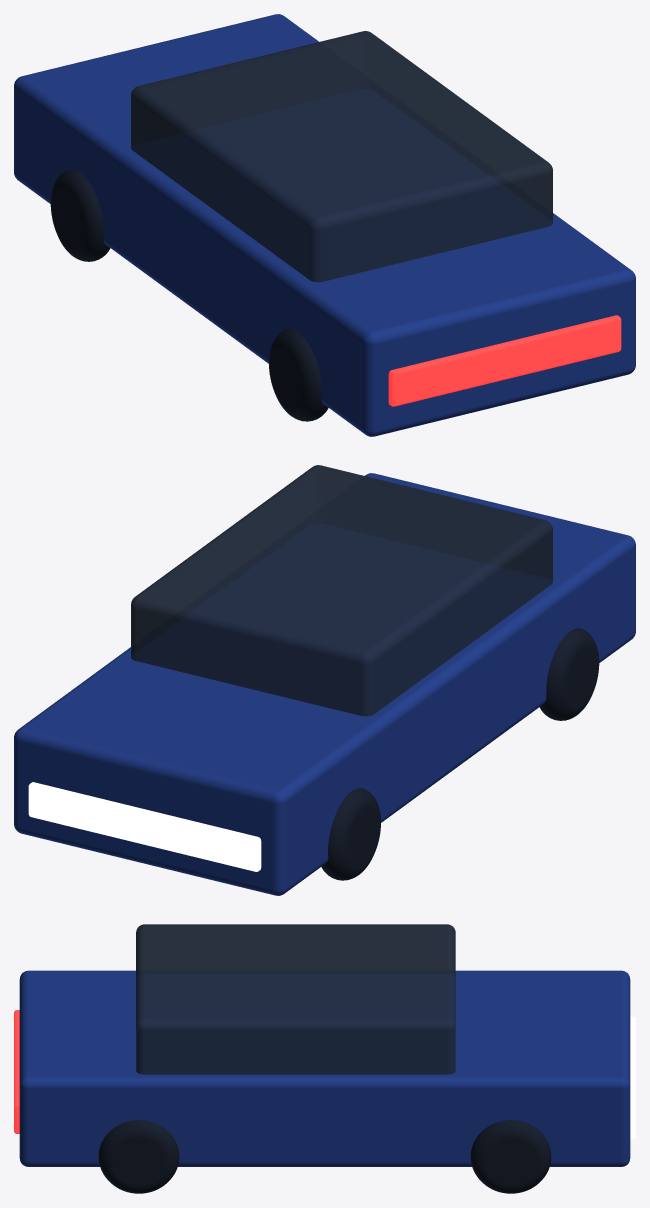
File: car_model_blender.glb
3 renders of one model, top to bottom at view 1: azimuth 30°, elevation 25°; view 2: azimuth 150°, elevation 25°; view 3: azimuth 270°, elevation 25°, orthographic. The views are drawn at different scales.
Parts seen in each view (by area): view 1: Vehicle_Sedan_04_Chassis, Vehicle_Sedan_04_Cabin, Vehicle_Sedan_04_Taillights, Vehicle_Sedan_04_Wheel_-45_-64, Vehicle_Sedan_04_Wheel_-45_64; view 2: Vehicle_Sedan_04_Chassis, Vehicle_Sedan_04_Cabin, Vehicle_Sedan_04_Headlights, Vehicle_Sedan_04_Wheel_-45_64, Vehicle_Sedan_04_Wheel_-45_-64; view 3: Vehicle_Sedan_04_Chassis, Vehicle_Sedan_04_Cabin, Vehicle_Sedan_04_Wheel_45_64, Vehicle_Sedan_04_Wheel_45_-64, Vehicle_Sedan_04_Taillights, Vehicle_Sedan_04_Headlights.
Boxes of the visible parts, x1,y1,x2,y2 form: Vehicle_Sedan_04_Chassis: (14, 14, 635, 436); Vehicle_Sedan_04_Cabin: (131, 31, 552, 282); Vehicle_Sedan_04_Taillights: (388, 315, 621, 406); Vehicle_Sedan_04_Wheel_-45_-64: (50, 169, 110, 261); Vehicle_Sedan_04_Wheel_-45_64: (269, 329, 328, 421); Vehicle_Sedan_04_Chassis: (14, 473, 635, 895); Vehicle_Sedan_04_Cabin: (131, 465, 552, 716); Vehicle_Sedan_04_Headlights: (28, 782, 261, 871); Vehicle_Sedan_04_Wheel_-45_64: (539, 628, 599, 720); Vehicle_Sedan_04_Wheel_-45_-64: (321, 788, 380, 880); Vehicle_Sedan_04_Chassis: (19, 970, 630, 1166); Vehicle_Sedan_04_Cabin: (136, 924, 455, 1074); Vehicle_Sedan_04_Wheel_45_64: (98, 1120, 179, 1193); Vehicle_Sedan_04_Wheel_45_-64: (470, 1120, 551, 1193); Vehicle_Sedan_04_Taillights: (14, 1010, 19, 1133); Vehicle_Sedan_04_Headlights: (630, 1016, 635, 1139).
Size of the model in its own units: 18 by 11.3 by 38.52.
